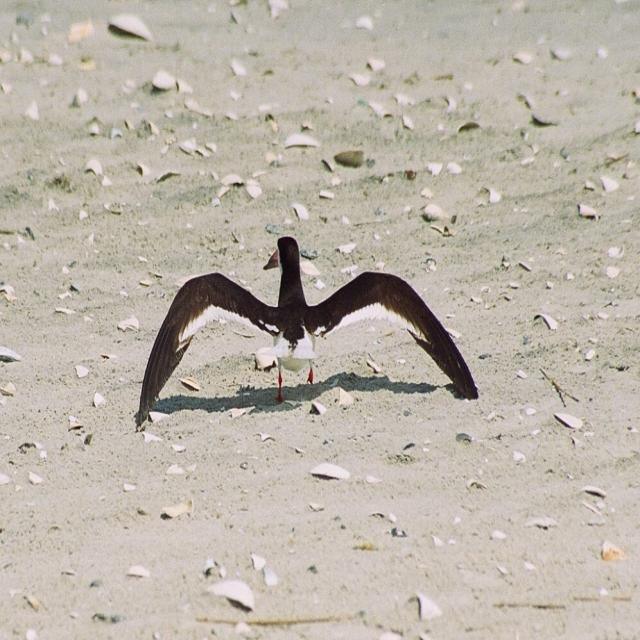bird: (130, 227, 487, 427)
